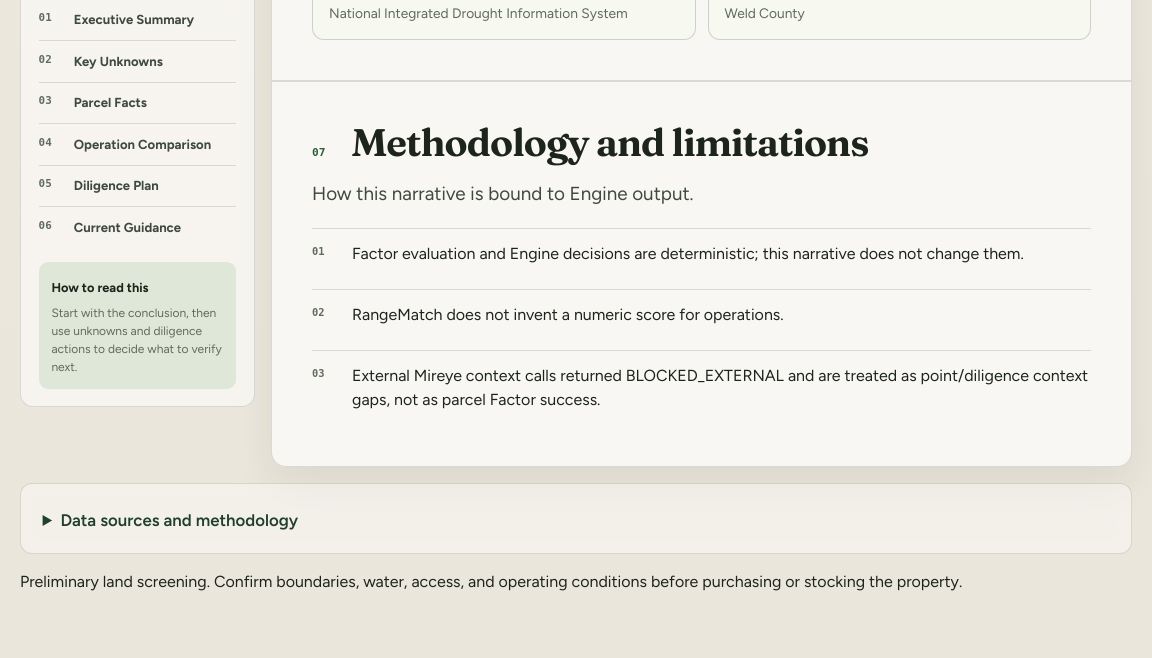
Test: RangeMatch buyer UI › buyer appendix uses understandable land-check labels
(page scrolled)
Step 1. Click the heading "Data sources and methodology" → (179, 520), box [60,510,298,530]
(page scrolled)
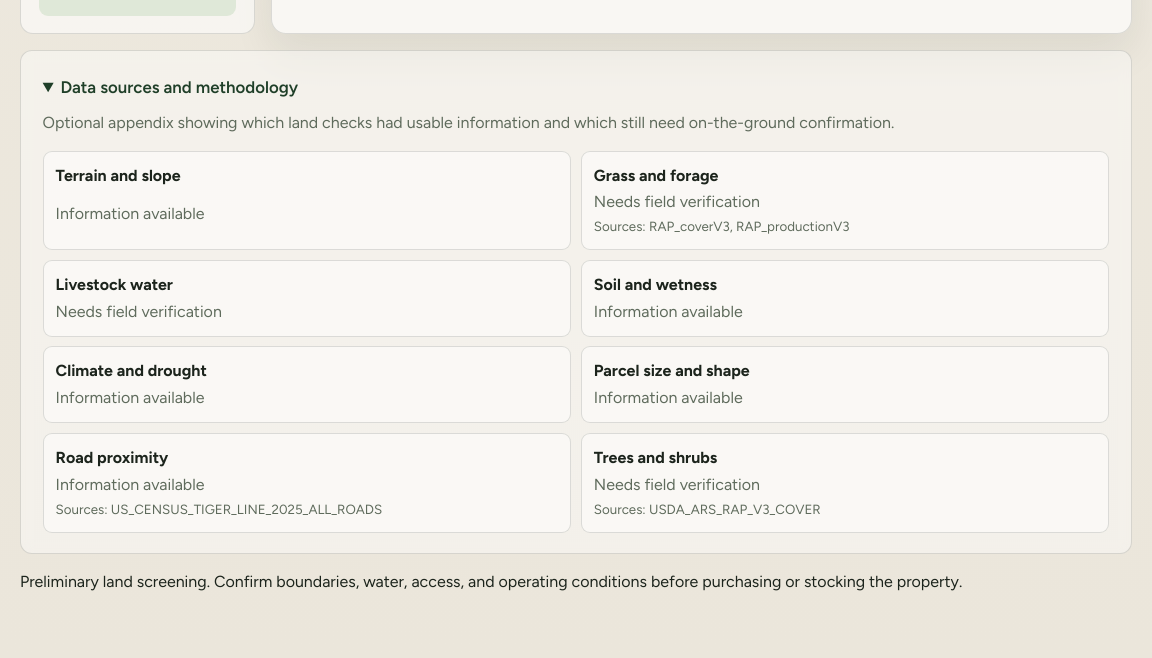
Check: the list named "Land checks and data sources" is shown, box [43,151,1109,533]
Check: the text "Terrain and slope" is shown, box [56,166,181,185]
Check: the text "Trees and shrubs" is shown, box [594,448,717,467]
